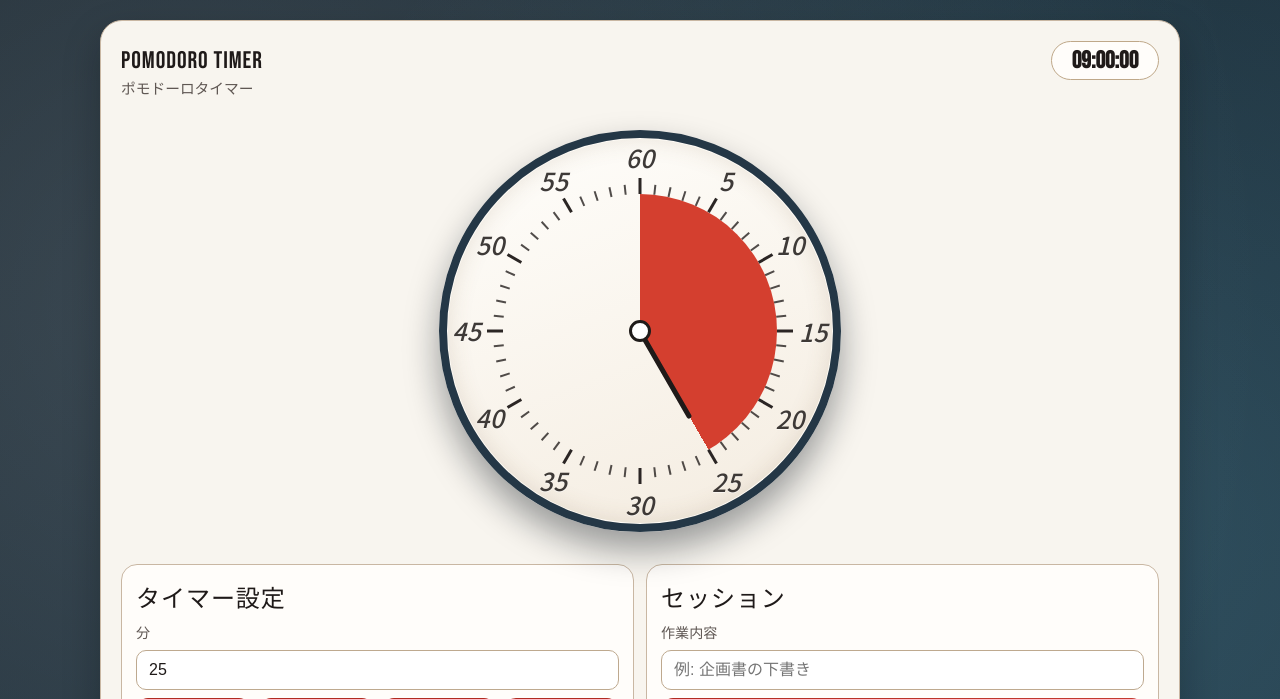
it: App › appends newly completed task to the bottom of history
Replace the text in the number field labelled "分" with "1": (378, 670) [136,650,619,690]
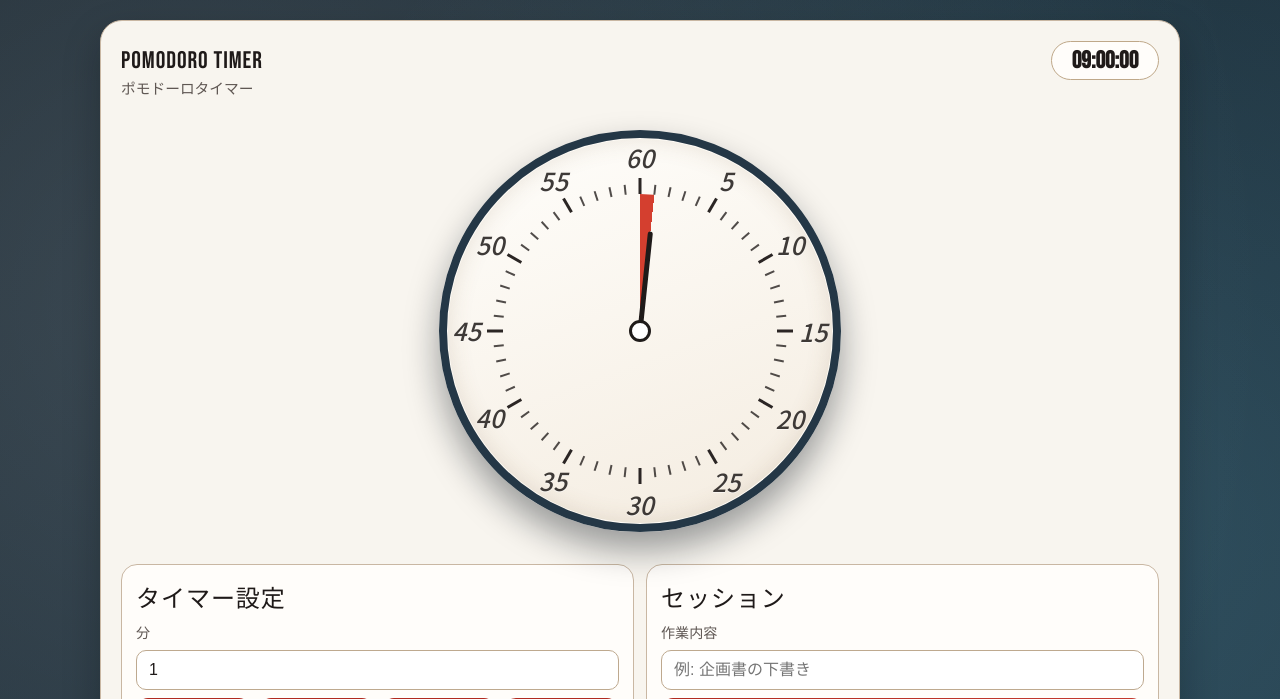
In the field labelled "作業内容": (902, 670) [661,650,1144,690], type "新規タスク"
(page scrolled)
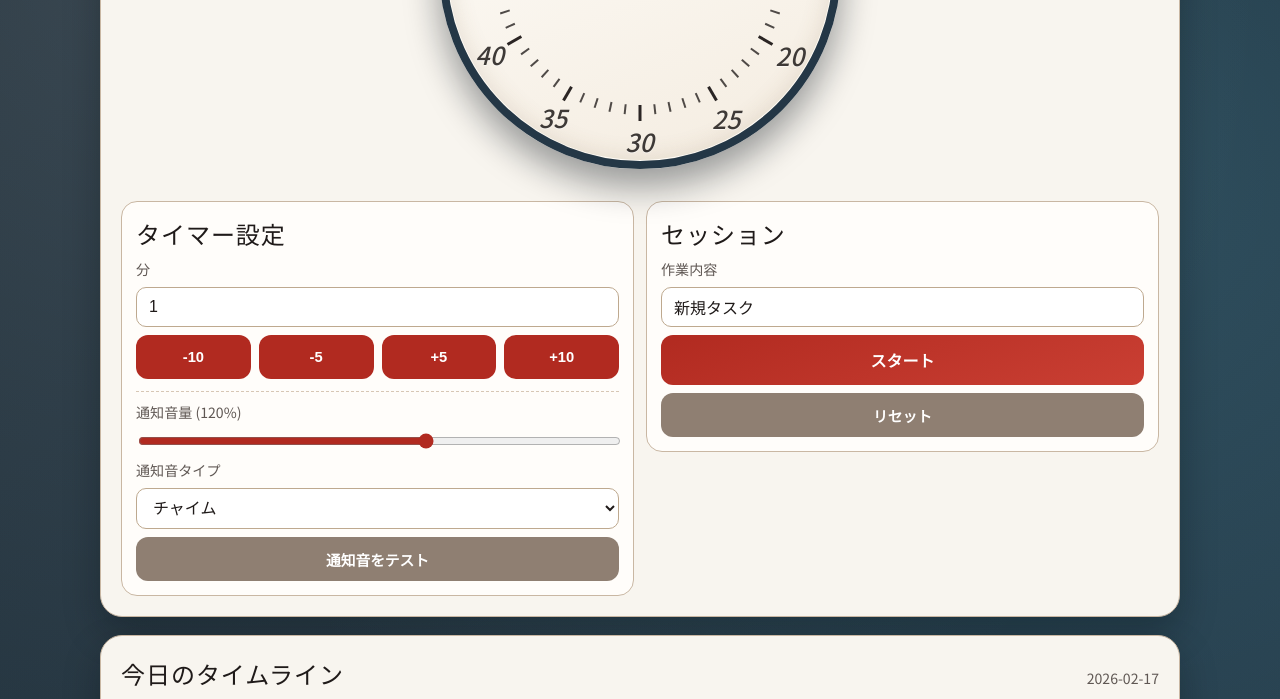
Click the button named "タイマー開始": (902, 360) [661,335,1144,385]
Wait 61000 ms
(page scrolled)
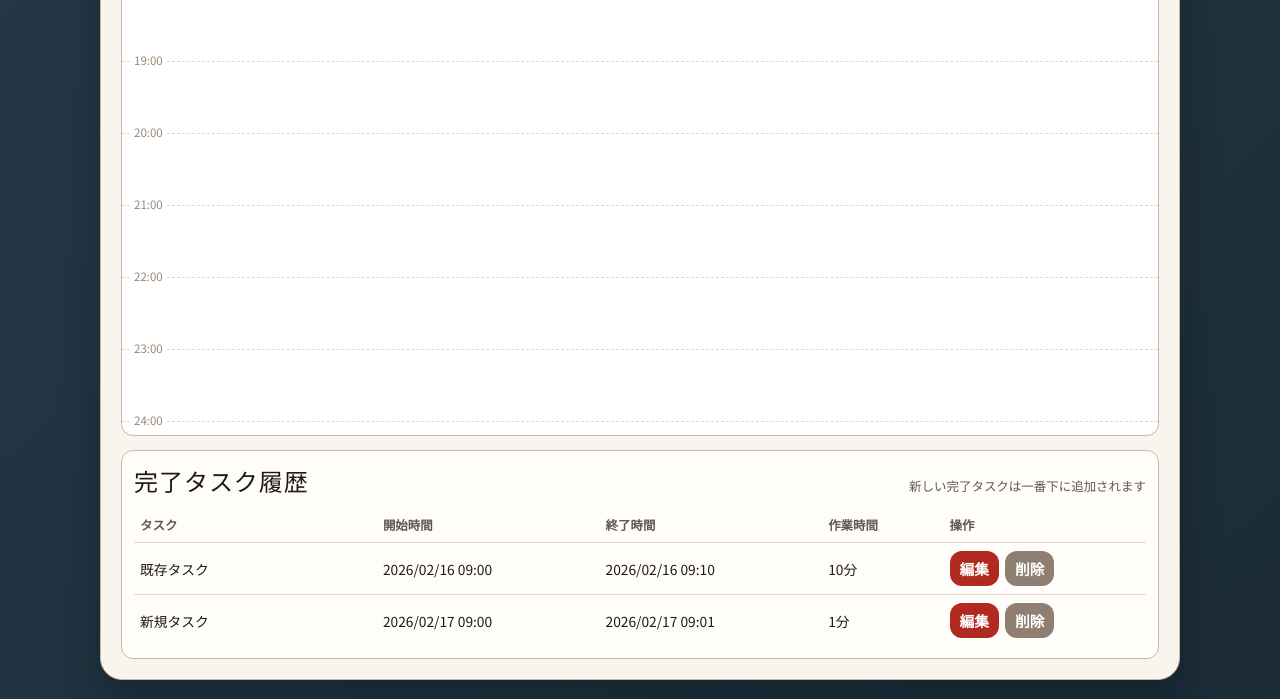
Expected: the cell "既存タスク" is shown, [134,542,377,594]
Expected: the cell "新規タスク" is shown, [134,594,377,646]
